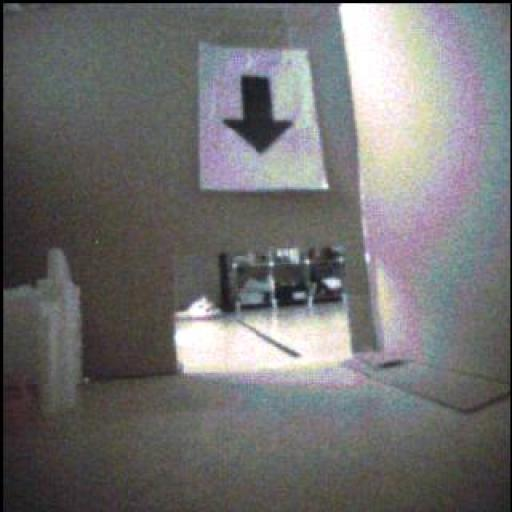arrow: (225, 76, 294, 155)
